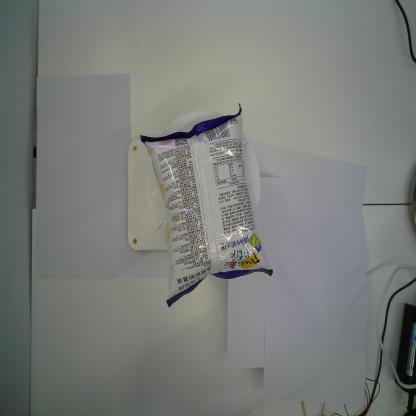Puffed Food: (139, 104, 273, 310)
